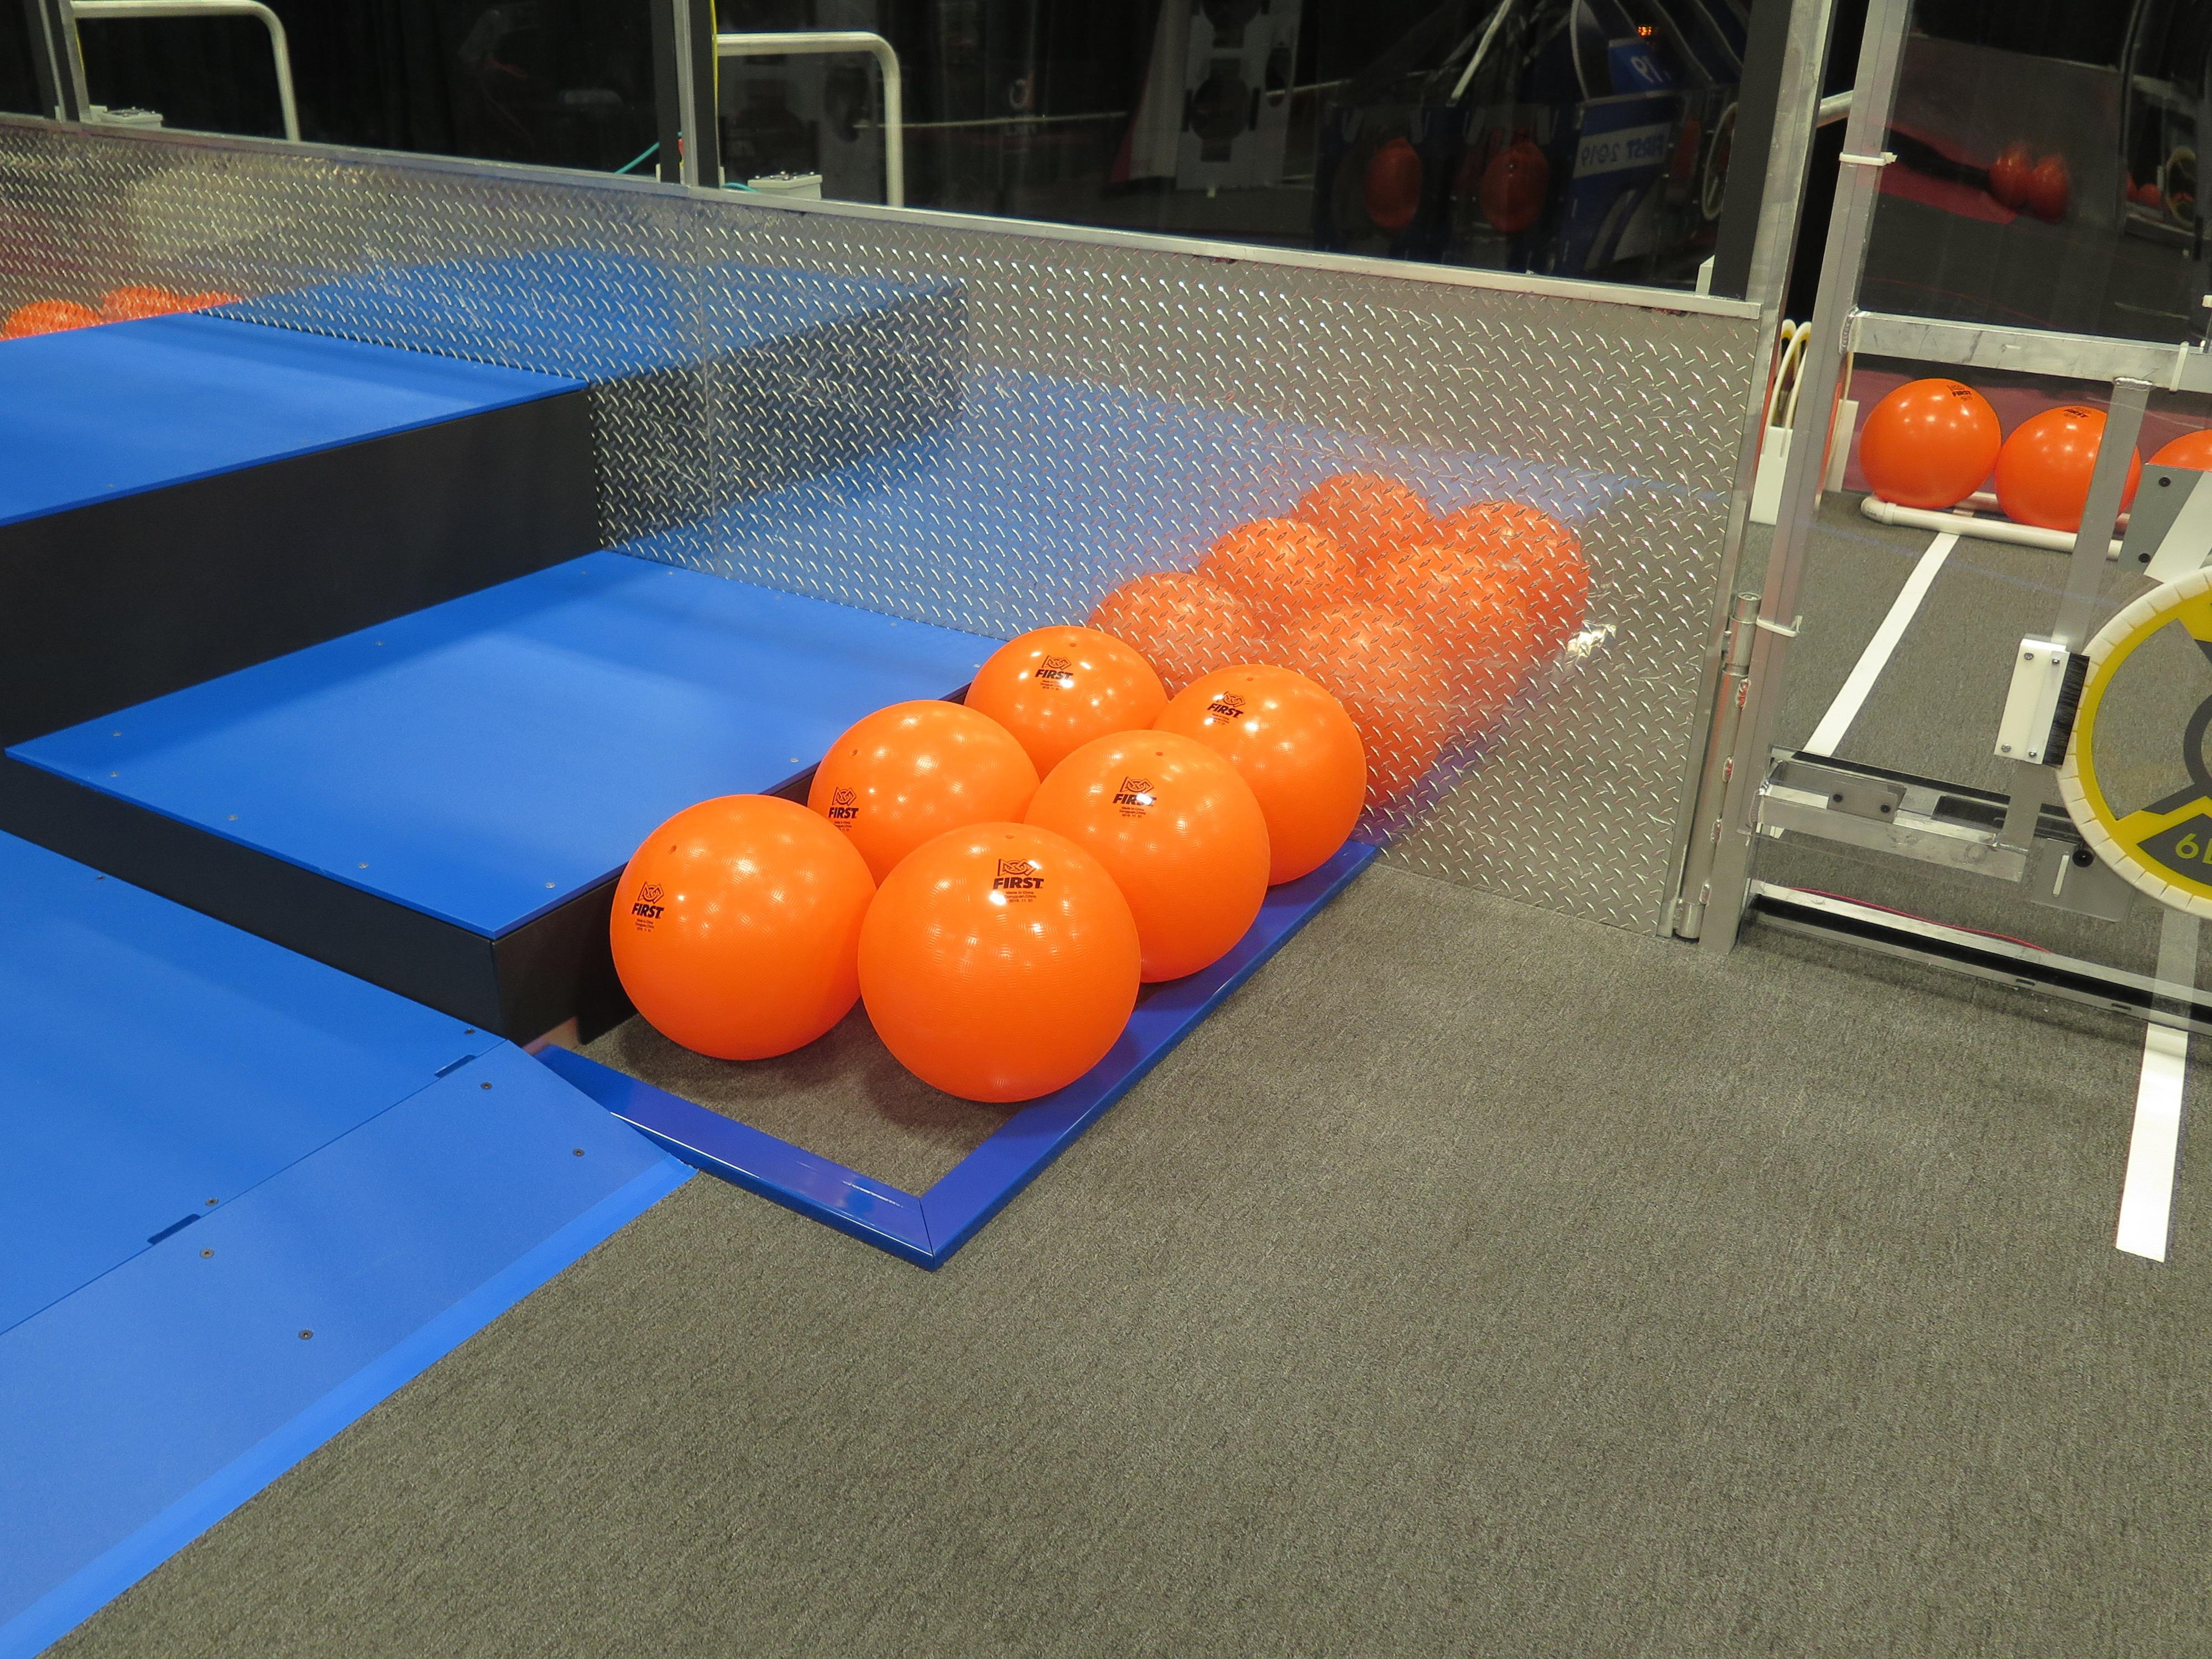Ball: (855, 821, 1139, 1101), (610, 795, 880, 1060), (1022, 730, 1271, 985), (1163, 662, 1371, 884), (808, 699, 1047, 890), (961, 622, 1172, 786), (1857, 378, 2000, 511)
Hatch: (2050, 561, 2212, 931)
Tape: (2142, 464, 2212, 592)
